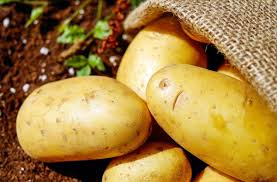potato: (148, 61, 275, 178), (17, 73, 149, 161)
